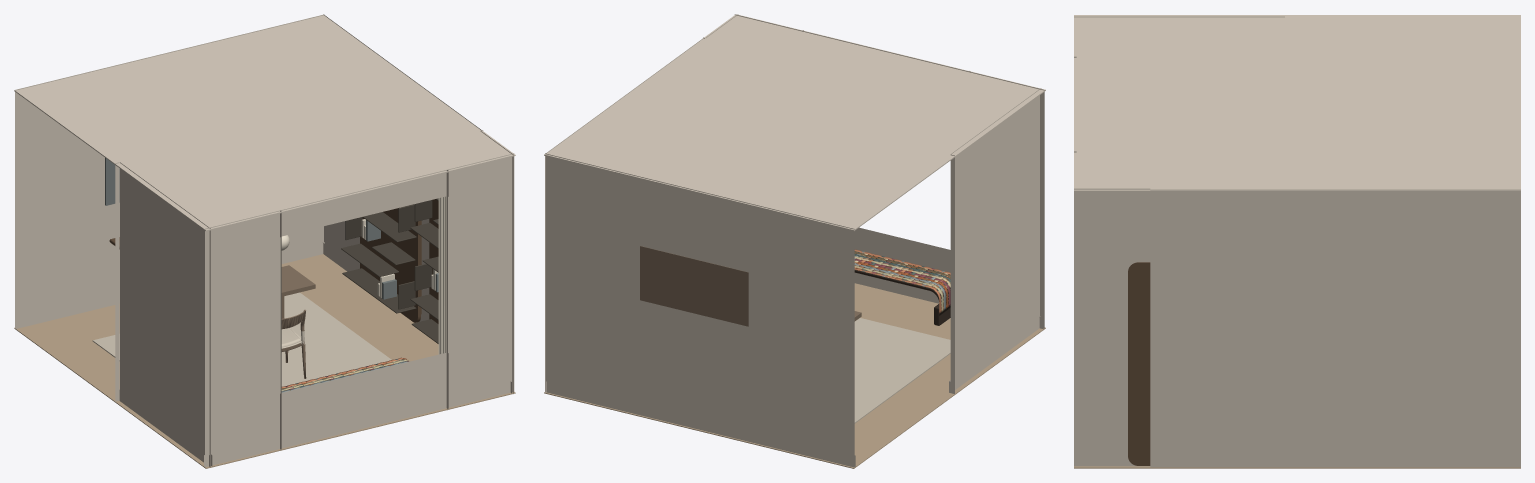
Rendered from formal-3.glb.
3 views of the same model, side by side, from view 1: azimuth 30°, elevation 25°; view 2: azimuth 150°, elevation 25°; view 3: azimuth 270°, elevation 25° (orthographic). The views are drawn at different scales.
Parts seen in each view (by area): view 1: DESIGN | formal removable wall finish, DESIGN | formal ceiling finish, DESIGN | formal floor finish, DESIGN | Required Blabla bookcase 2, DESIGN | Formal ground, DESIGN | Required Blabla bookcase 1, DESIGN | Formal soft window edge.001, DESIGN | Working chair facing desk, DESIGN | Required Brera anniversary window bench, DESIGN | Working desk top, DESIGN | Writing wall textile; view 2: DESIGN | formal removable wall finish, DESIGN | formal ceiling finish, DESIGN | formal floor finish, DESIGN | Quiet artwork frame, DESIGN | Formal ground, DESIGN | Required Brera anniversary window bench; view 3: DESIGN | formal removable wall finish, DESIGN | formal ceiling finish, DESIGN | Required Blabla bookcase 1, DESIGN | formal floor finish.
Part boxes in pixels (<box>): DESIGN | formal removable wall finish: <box>15,14,514,466</box>; DESIGN | formal ceiling finish: <box>14,15,515,231</box>; DESIGN | formal floor finish: <box>14,254,515,468</box>; DESIGN | Required Blabla bookcase 2: <box>341,204,421,322</box>; DESIGN | Formal ground: <box>92,292,391,386</box>; DESIGN | Required Blabla bookcase 1: <box>410,198,438,343</box>; DESIGN | Formal soft window edge.001: <box>438,196,446,354</box>; DESIGN | Working chair facing desk: <box>281,309,306,378</box>; DESIGN | Required Brera anniversary window bench: <box>281,357,409,392</box>; DESIGN | Working desk top: <box>281,265,315,296</box>; DESIGN | Writing wall textile: <box>105,158,119,205</box>; DESIGN | formal removable wall finish: <box>545,14,1044,467</box>; DESIGN | formal ceiling finish: <box>544,14,1045,231</box>; DESIGN | formal floor finish: <box>544,283,1045,468</box>; DESIGN | Quiet artwork frame: <box>640,246,748,326</box>; DESIGN | Formal ground: <box>854,318,950,423</box>; DESIGN | Required Brera anniversary window bench: <box>854,249,950,325</box>; DESIGN | formal removable wall finish: <box>1074,16,1520,467</box>; DESIGN | formal ceiling finish: <box>1074,15,1520,191</box>; DESIGN | Required Blabla bookcase 1: <box>1128,262,1150,465</box>; DESIGN | formal floor finish: <box>1074,466,1520,468</box>.
Bounding box in the file's own units: 3.71 × 2.74 × 3.98.
